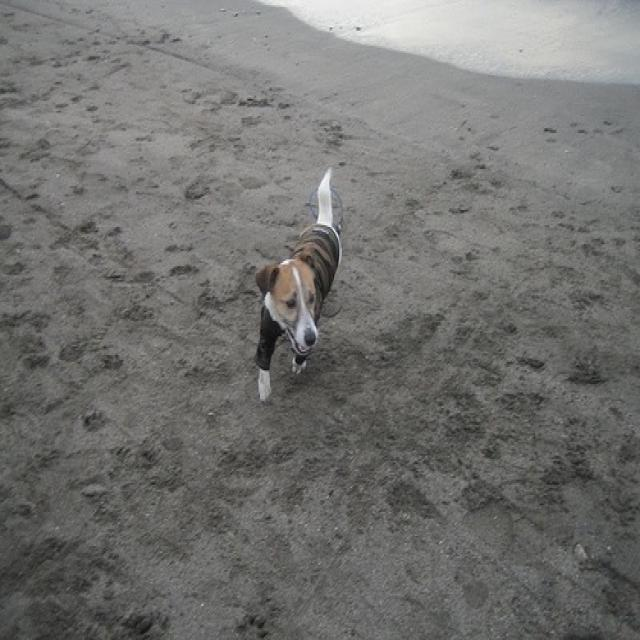dog: (250, 162, 348, 405)
